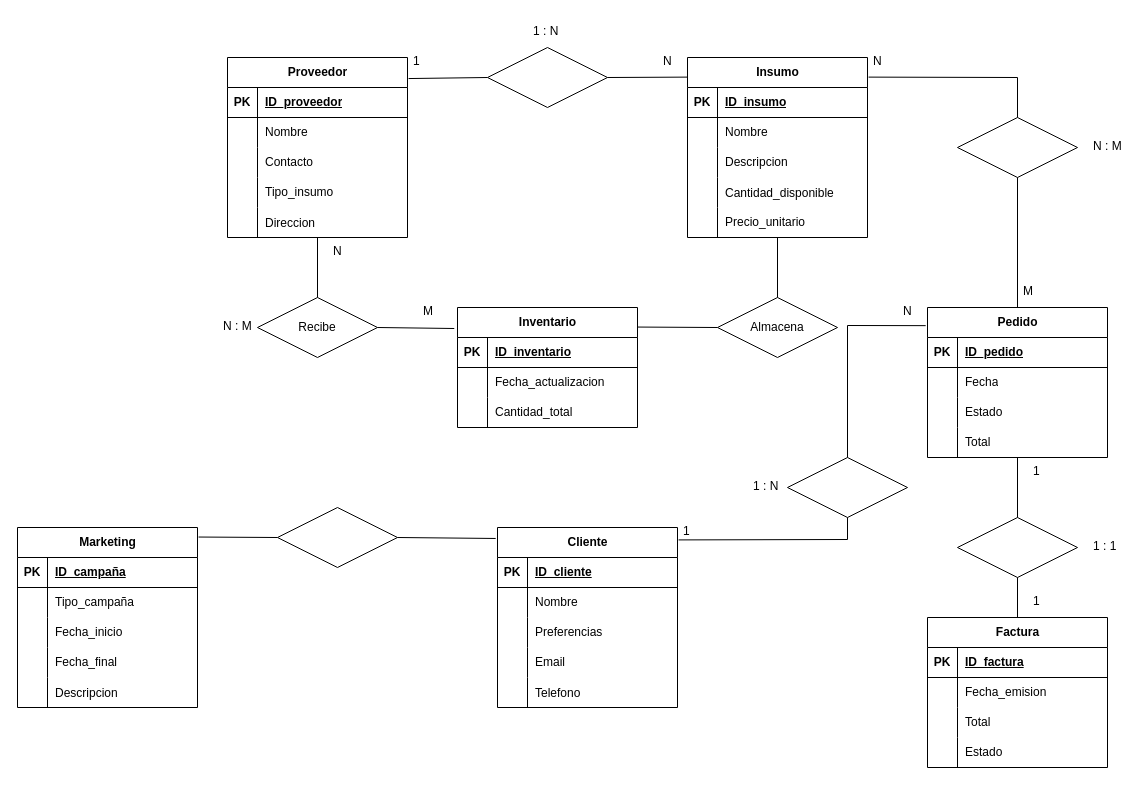
Some shapes in this 1145 by 785 pixel diagram are drawn without their labels. Here are the shapes that lost their labels. From the top down, the centre of each, then its label:
At point (547, 77): "Suministra".
At point (1017, 147): "Contiene".
At point (847, 487): "Realiza".
At point (337, 537): "Segmenta".
At point (1017, 547): "Genera".
